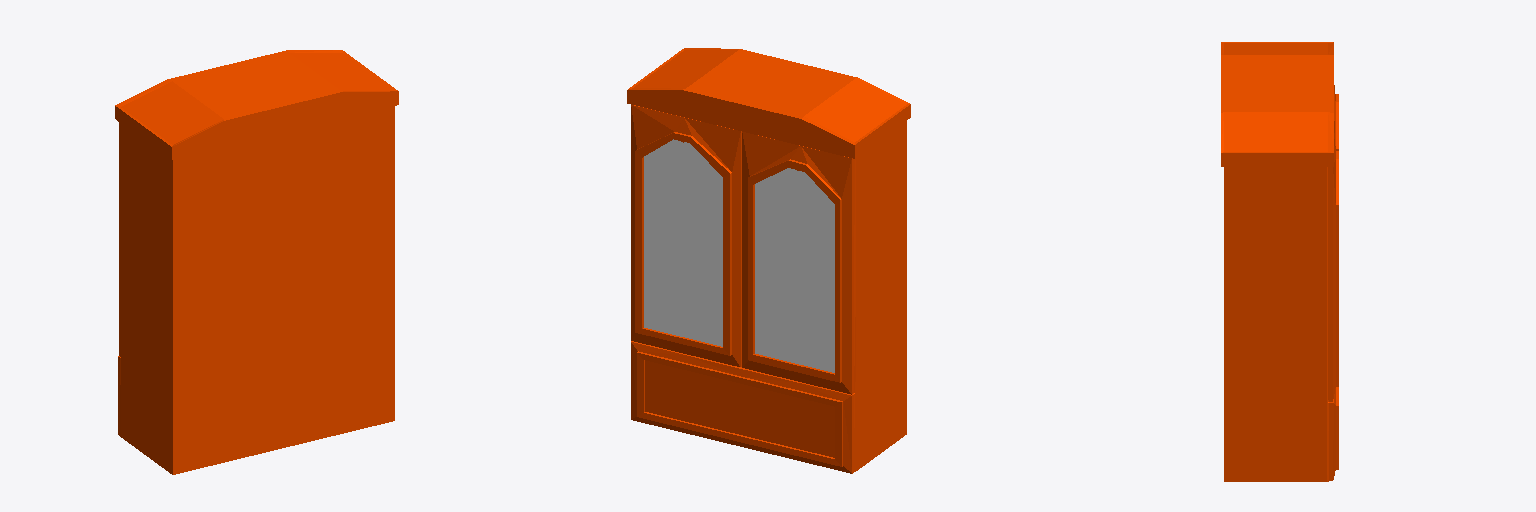
File: Wardrobe_base.obj
3 renders of one model, left to right at view 1: azimuth 30°, elevation 25°; view 2: azimuth 150°, elevation 25°; view 3: azimuth 270°, elevation 25°, orthographic.
Visible parts, largest first — view 1: Wardrobe_base; view 2: Wardrobe_base; view 3: Wardrobe_base.
Part boxes in pixels (left/top/right/bottom): Wardrobe_base: left=115, top=50, right=398, bottom=474; Wardrobe_base: left=627, top=48, right=910, bottom=473; Wardrobe_base: left=1221, top=42, right=1338, bottom=481.
Bounding box in the file's own units: 1.77 × 2.55 × 0.7925.